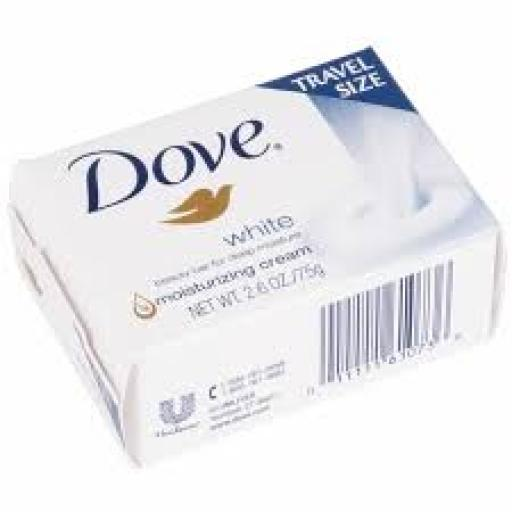Dove`1: (0, 29, 512, 485)
